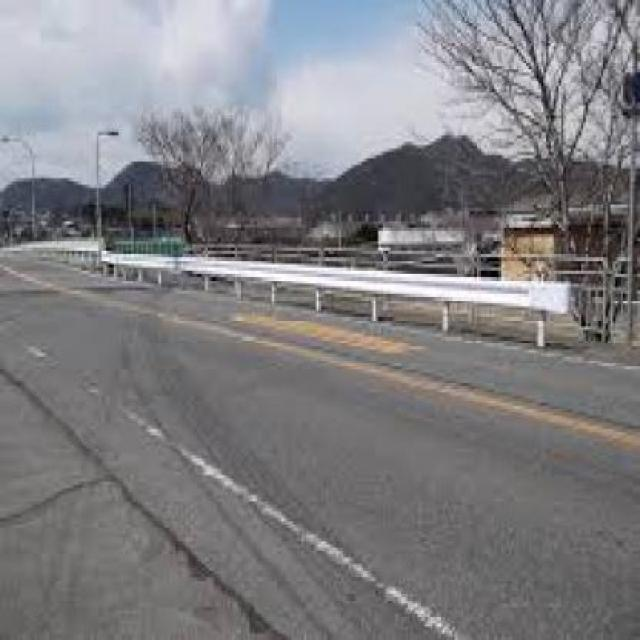Guard rail: (100, 229, 582, 351)
